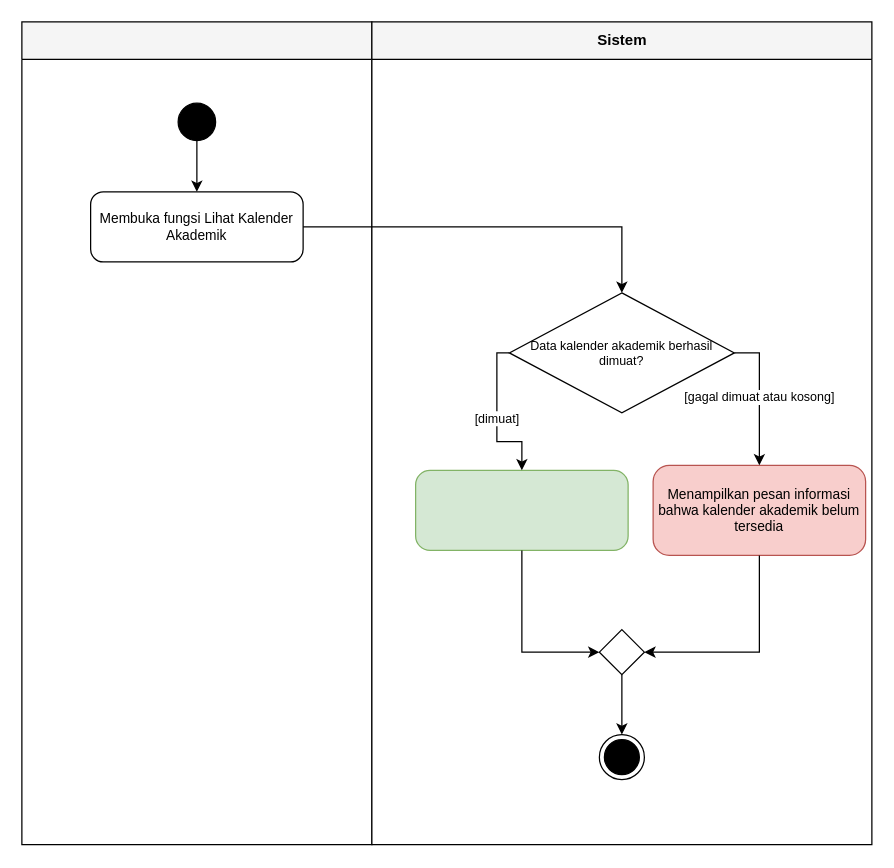
This 894x868 diagram has some shape labels left out. Here are the shapes that lost their labels. From the top down, the box of each, then its label:
(21, 21, 372, 845): Civitas Akademika
(414, 469, 628, 550): Menampilkan informasi kalender akademik secara lengkap
